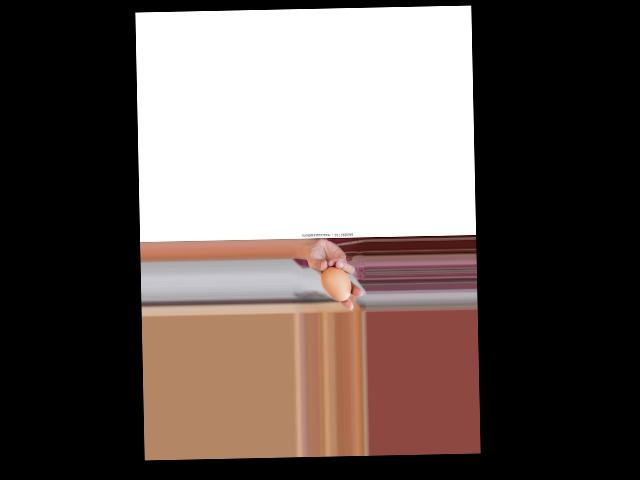egg: (321, 266, 352, 301)
